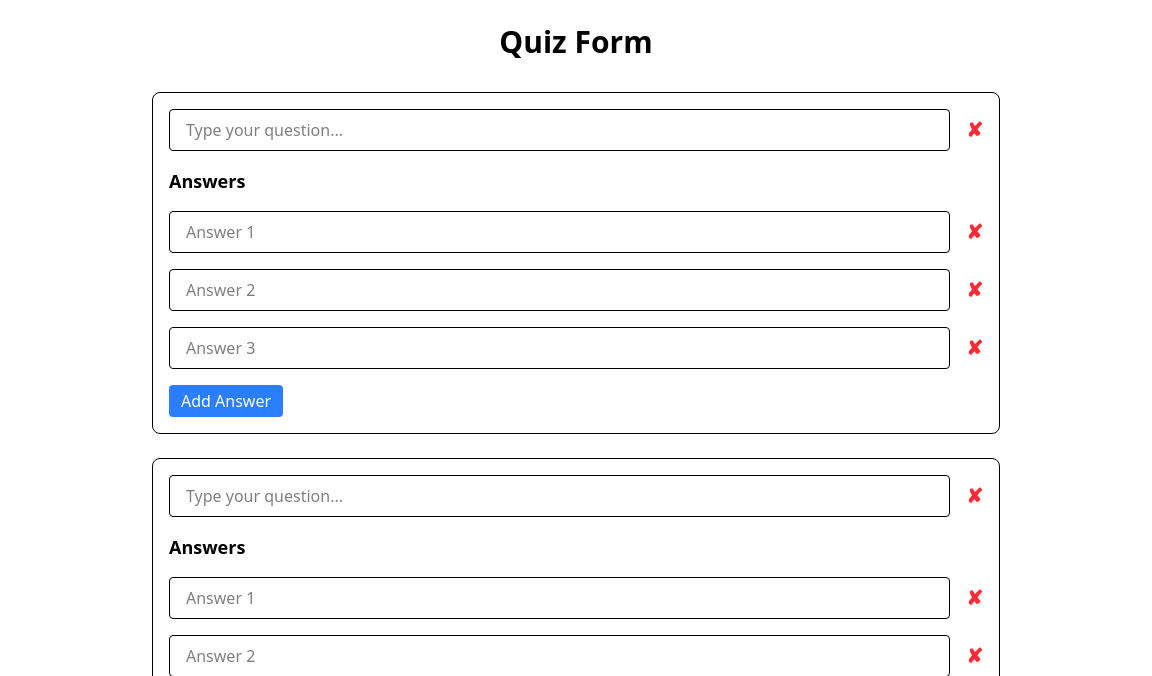
Test: Quiz Form E2E › Error Messages › Answer Count Error Messages › should show minimum answers error if answer count is less
The width and height of the screenshot is (1152, 676).
Check: the element showing "✘ Answers ✘ ✘ ✘ Add Answer" is shown, box [152, 92, 1000, 434]
Click the button named "Remove answer".
click(975, 232)  # box [966, 218, 983, 246]
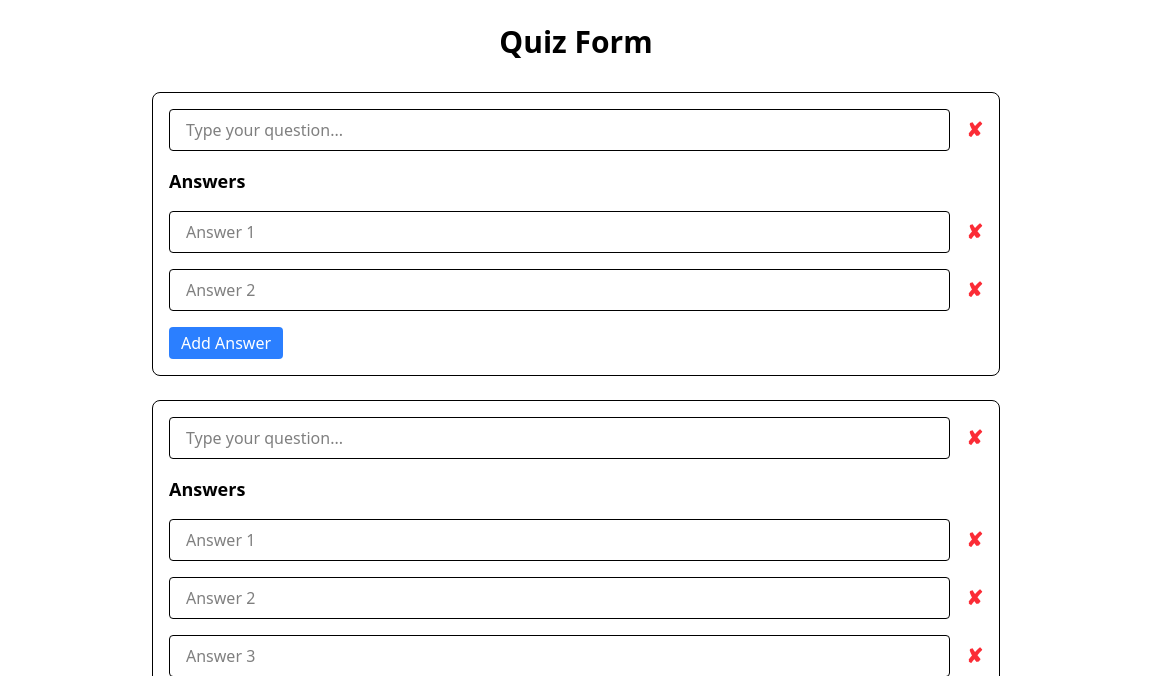
Click the button named "Remove answer".
click(975, 232)  # box [966, 218, 983, 246]
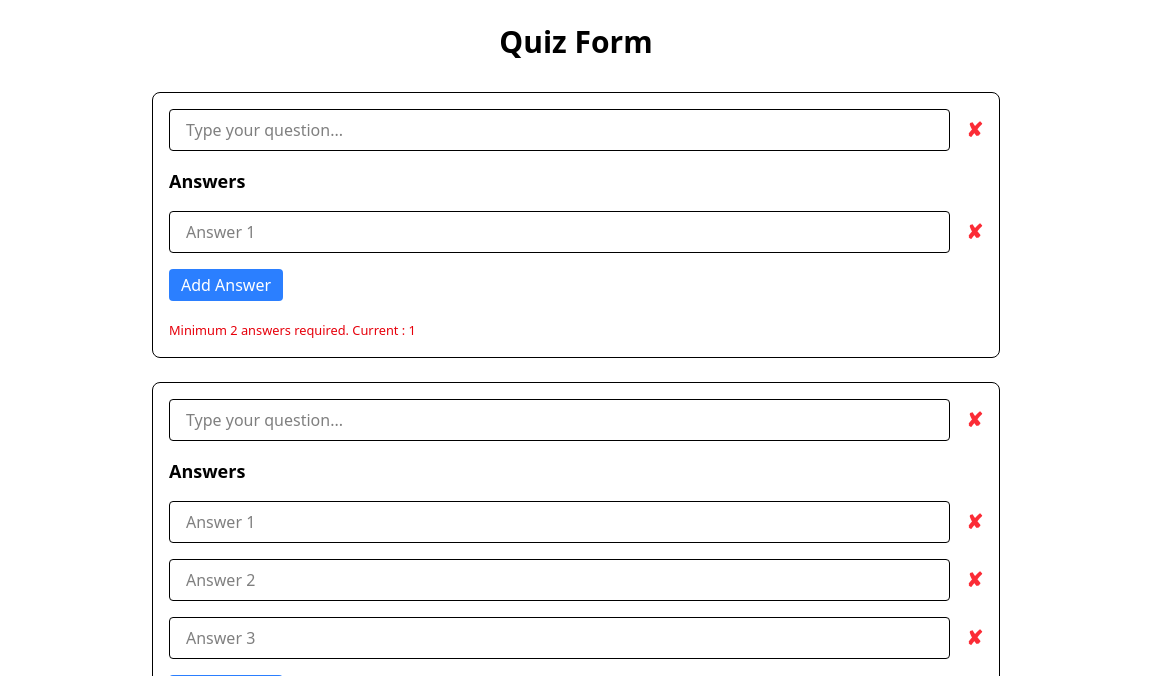
Check: the text "Minimum 2 answers required. Current : 1" is shown, box [169, 321, 416, 339]
